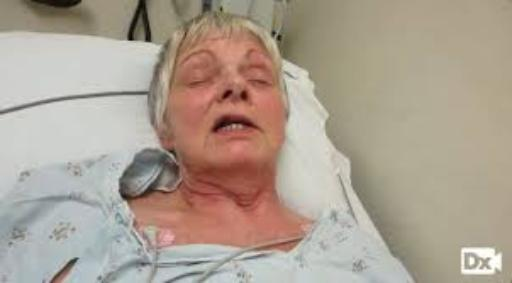left_eye: (247, 74, 276, 88)
left_lip_corner: (249, 120, 265, 134)
right_eye: (185, 72, 216, 89)
right_lip_corner: (207, 124, 221, 137)
